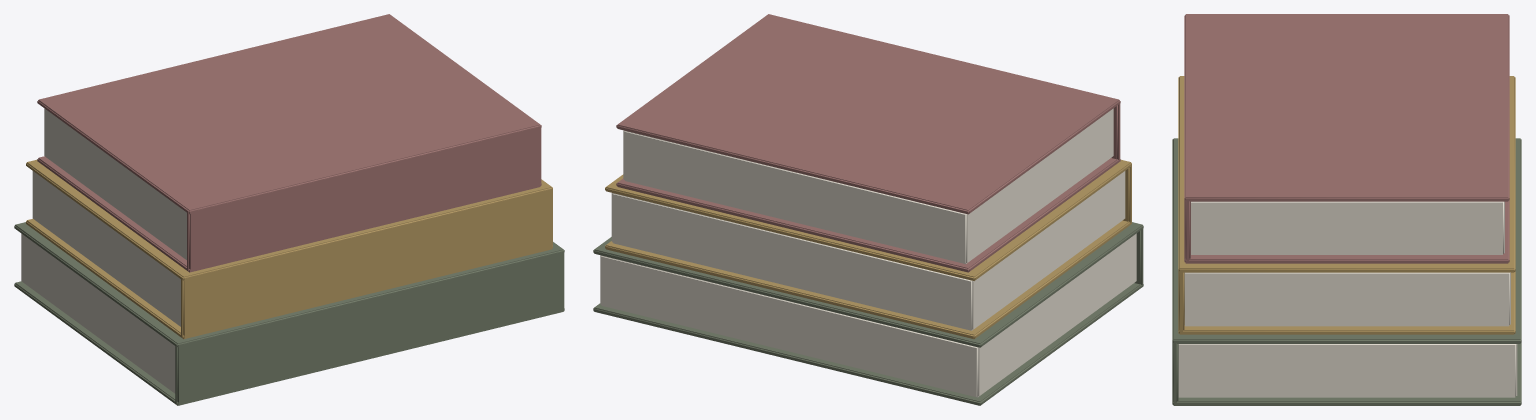
The model's file is traditional.book_stack.gltf.
3 views of the same model, side by side, from view 1: azimuth 30°, elevation 25°; view 2: azimuth 150°, elevation 25°; view 3: azimuth 270°, elevation 25° (orthographic). The views are drawn at different scales.
Visible parts, largest first — view 1: traditional.book_stack.pages; view 2: traditional.book_stack.pages; view 3: traditional.book_stack.pages.
Part boxes in pixels (bbox=[...]): traditional.book_stack.pages: bbox=[14, 14, 564, 405]; traditional.book_stack.pages: bbox=[593, 14, 1143, 405]; traditional.book_stack.pages: bbox=[1172, 14, 1521, 405].
Bounding box in the file's own units: 0.26 × 0.12 × 0.19.
